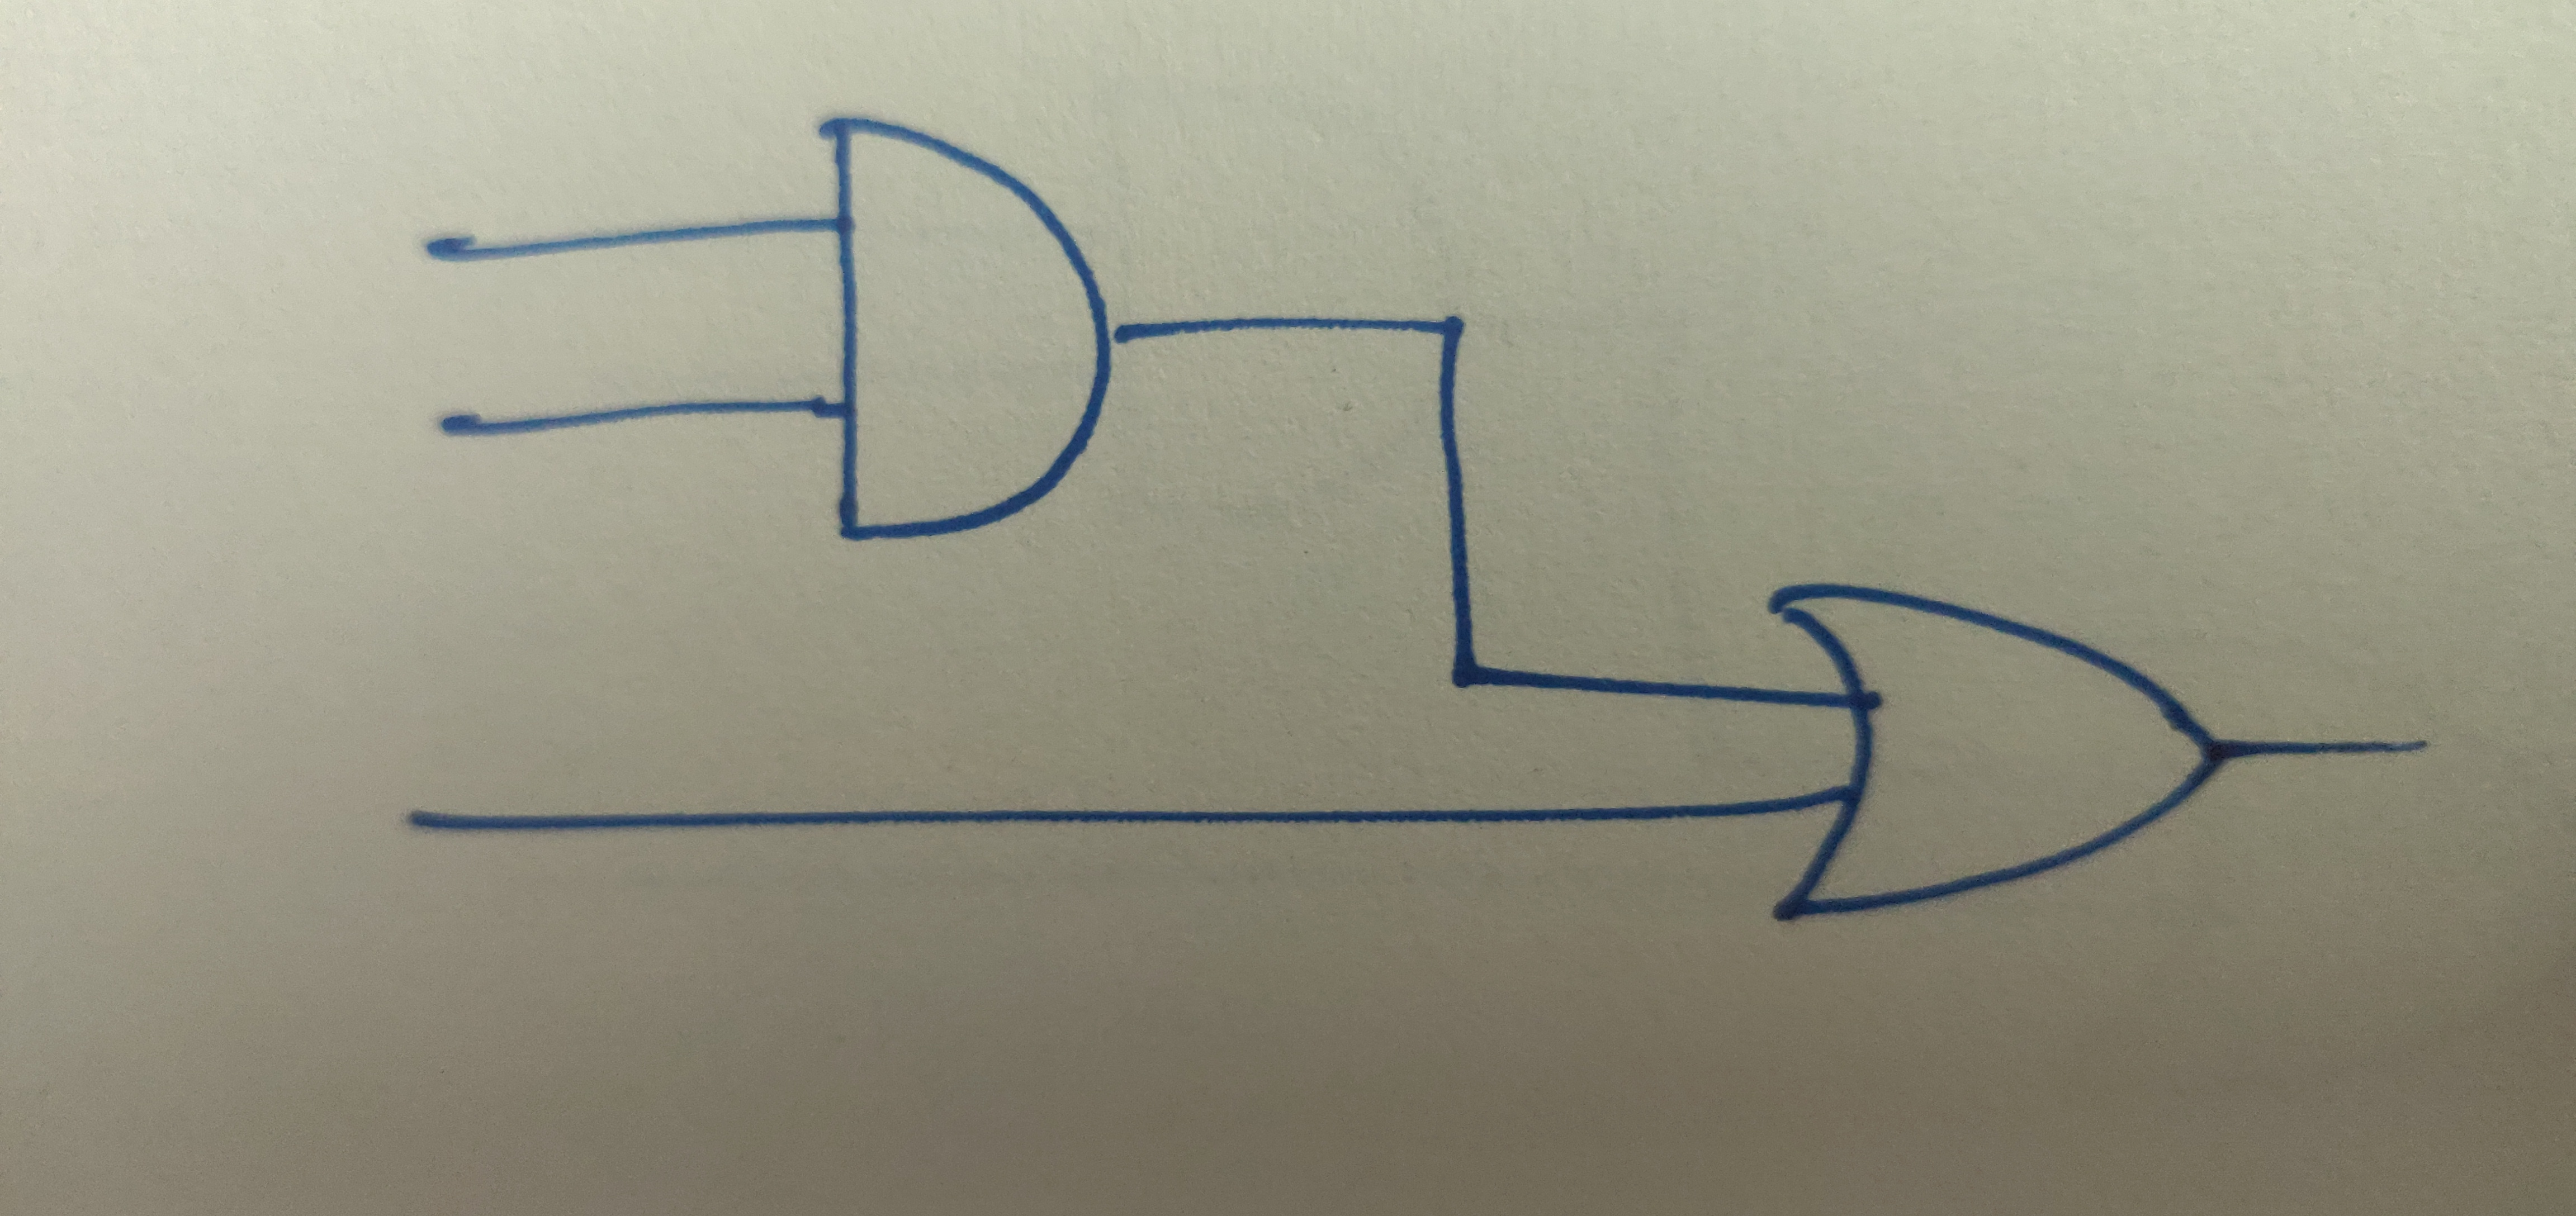and: (825, 115, 1114, 542)
or: (1761, 585, 2221, 927)
